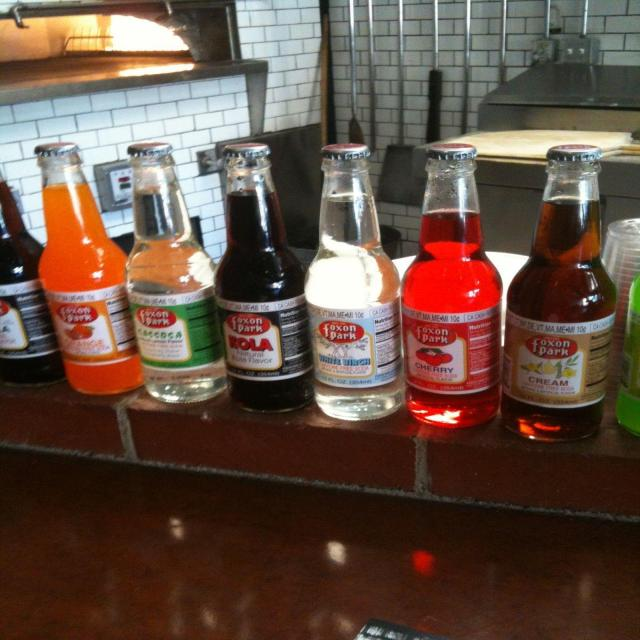glass bottle: (504, 143, 618, 441), (299, 142, 408, 420), (402, 141, 504, 433), (33, 143, 144, 396), (210, 144, 314, 413), (125, 140, 228, 406), (0, 171, 64, 377)
